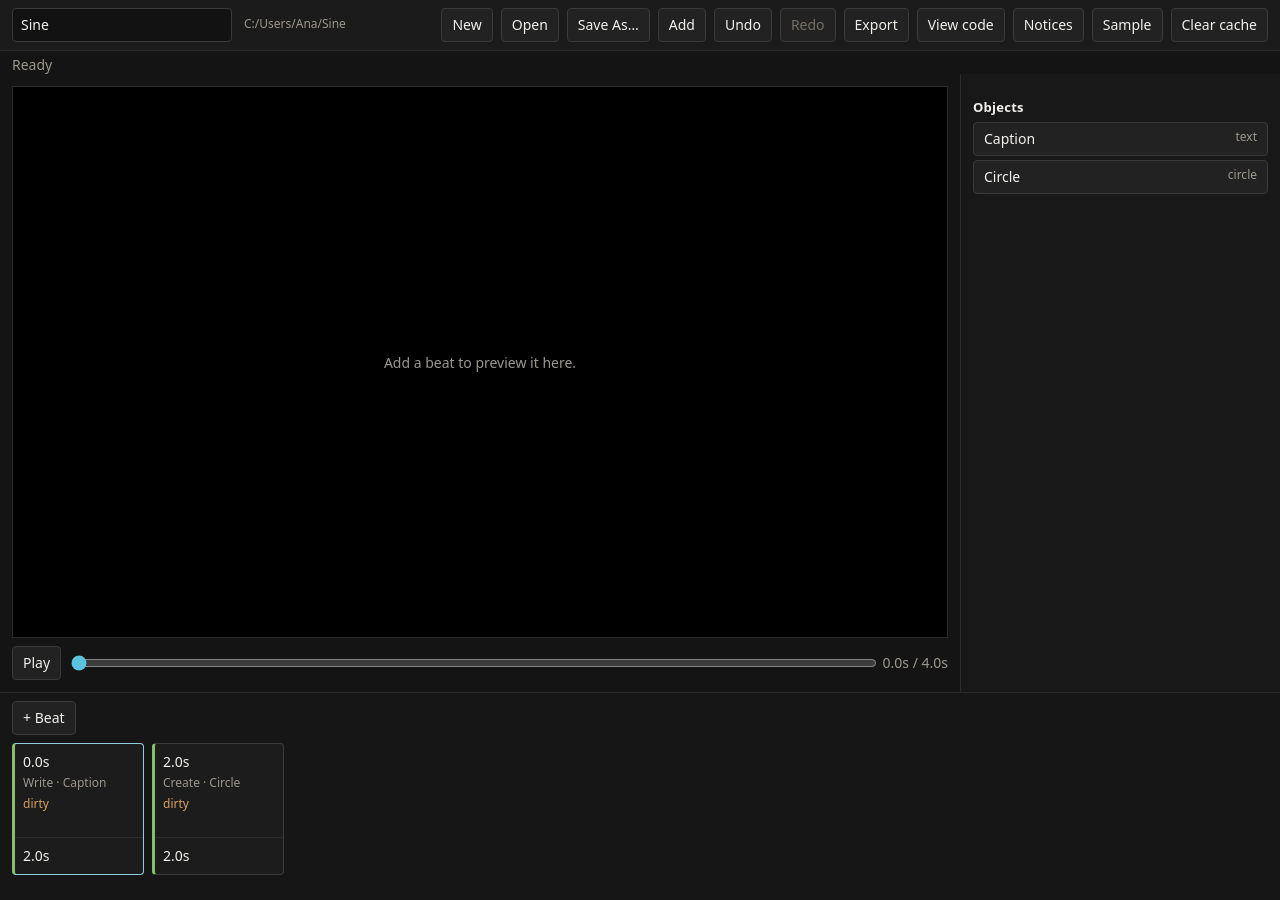
Test: App › shows a refused beat edit under its control as well as in the banner (spec §6, Refusals in the UI)
The width and height of the screenshot is (1280, 900).
Check: the text with test id "status" reads "Ready", box [12,55,52,74]
Click the button "2.0s Create · Circle dirty" at (219, 782), box [155,744,283,821]
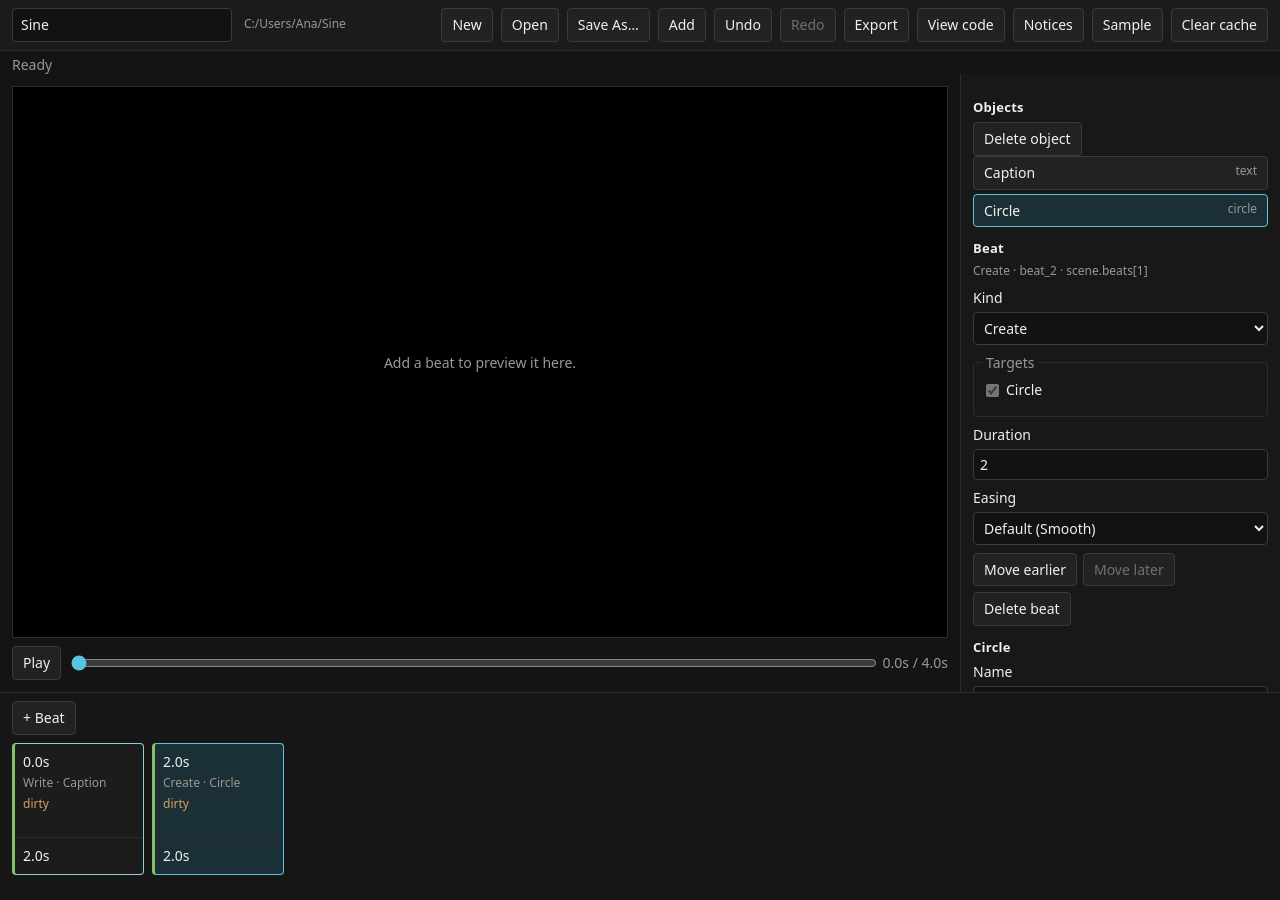
Select "Fade out" in the dropdown labelled "Kind" at (1120, 328), box [973,312,1268,345]
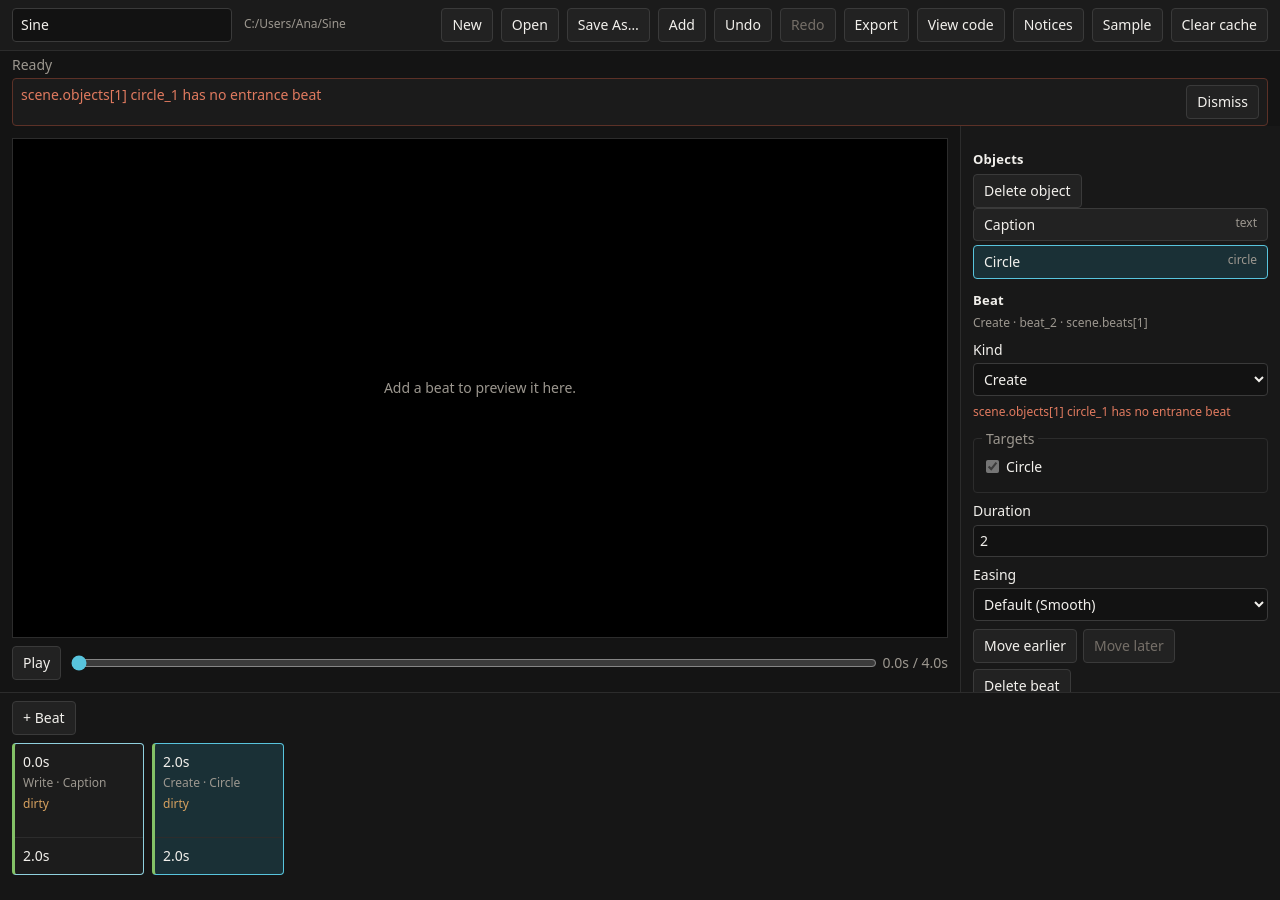
Check: the text with test id "beat-error-beat_2" reads "scene.objects[1] circle_1 has no entrance beat", box [973,403,1230,420]
Check: the text with test id "error" reads "scene.objects[1] circle_1 has no entrance beat", box [21,85,321,104]
